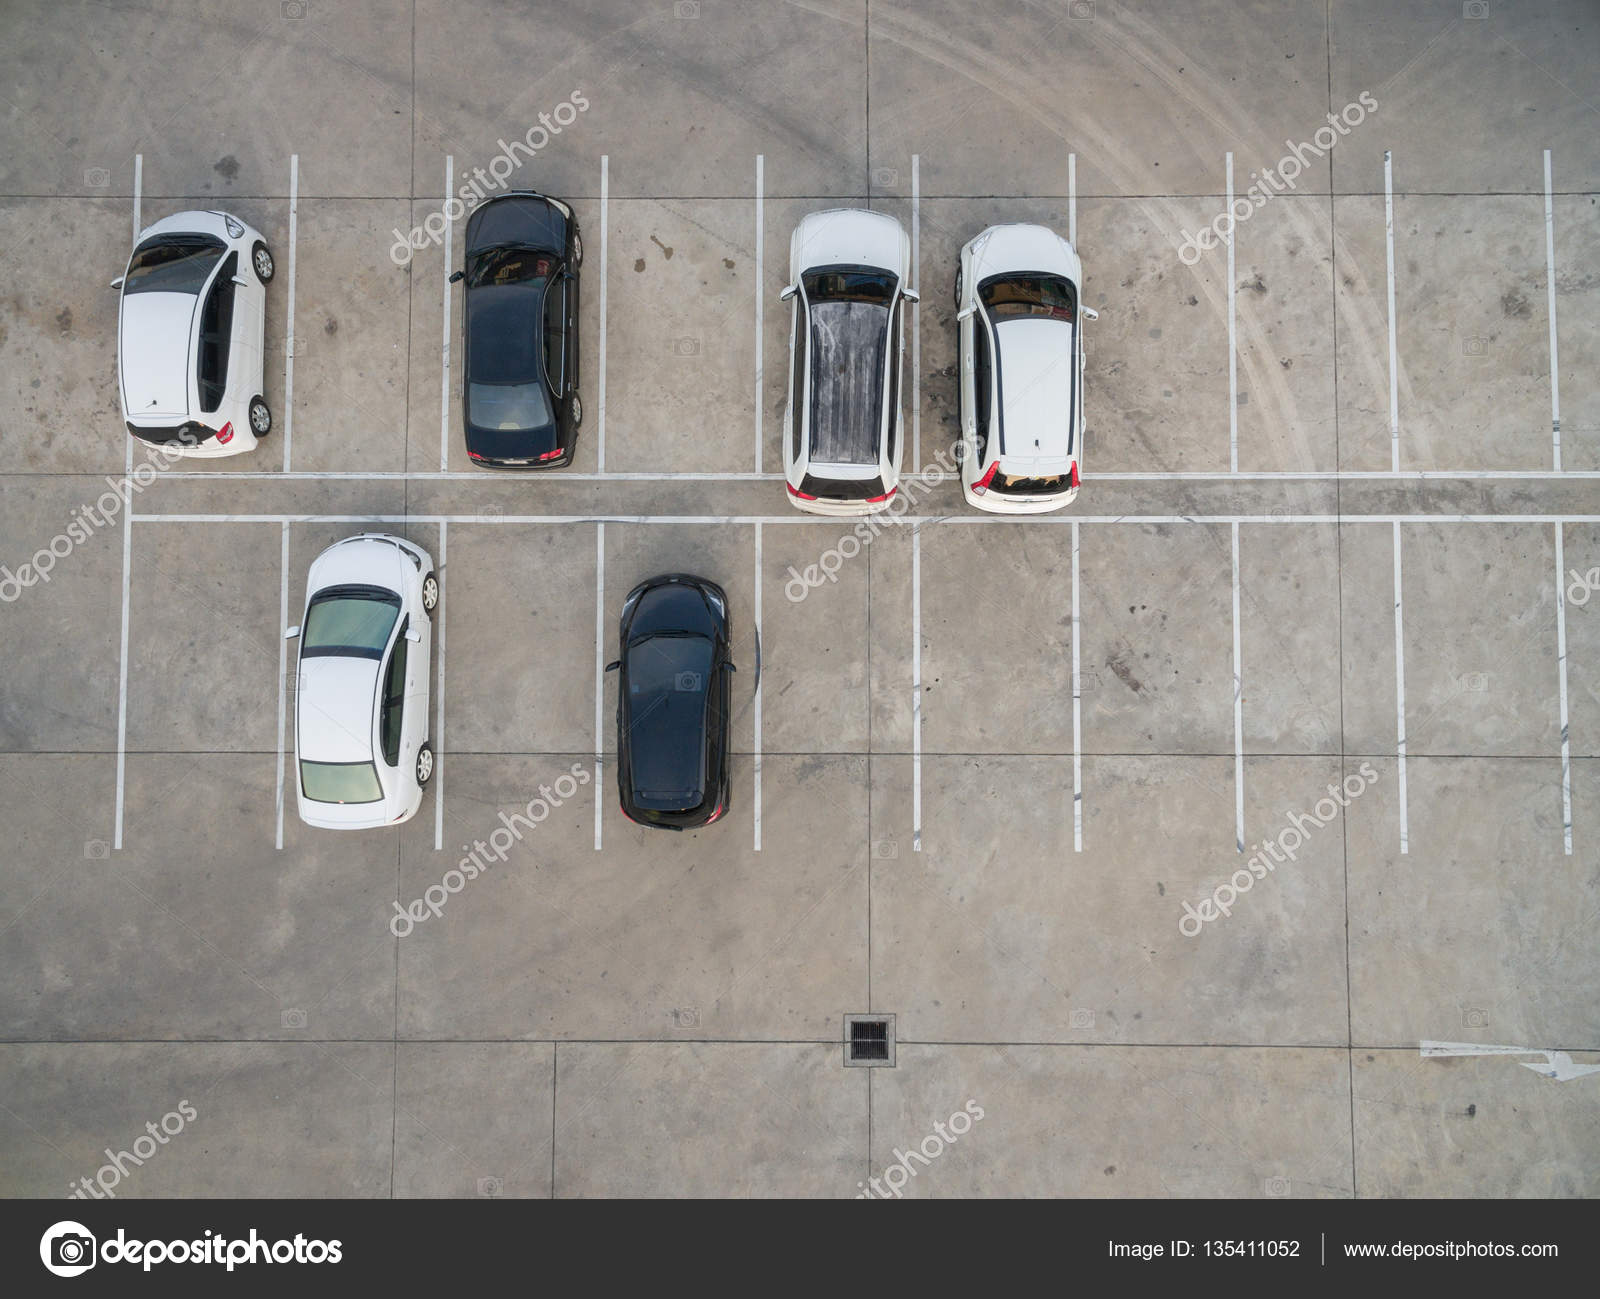Car: (282, 528, 441, 838), (770, 209, 927, 522), (107, 203, 278, 469), (948, 213, 1091, 516), (449, 190, 589, 473), (611, 567, 738, 842)
LaneMark: (141, 509, 791, 528), (107, 465, 137, 854), (909, 512, 1595, 528), (274, 142, 305, 477), (903, 513, 929, 866), (268, 522, 296, 844), (591, 146, 616, 479), (1090, 465, 1597, 481), (750, 146, 774, 481), (435, 152, 459, 471), (1068, 513, 1090, 858), (587, 522, 607, 860), (1225, 146, 1242, 479), (754, 514, 770, 852), (1546, 144, 1562, 477), (1395, 512, 1409, 870), (1231, 516, 1242, 877), (1387, 144, 1397, 479), (1562, 516, 1570, 874), (284, 465, 484, 479)
